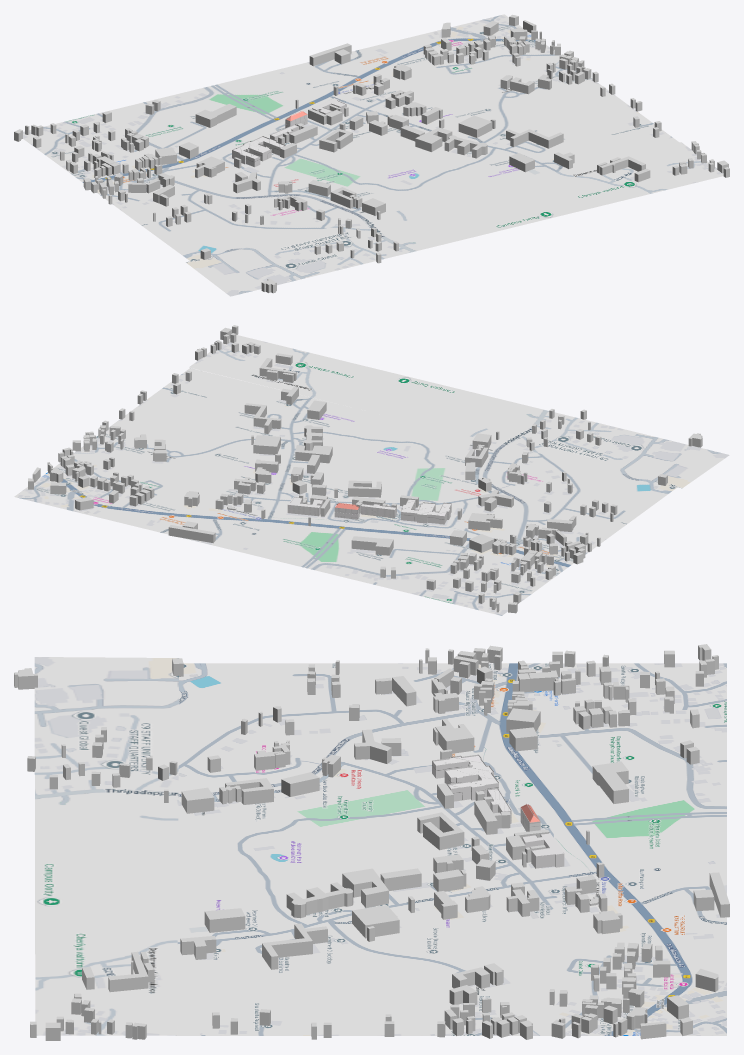
The picture shows the model from 3 angles, top to bottom: view 1: azimuth 30°, elevation 25°; view 2: azimuth 150°, elevation 25°; view 3: azimuth 270°, elevation 25°; orthographic projection. The views are drawn at different scales.
Visible parts, largest first — view 1: EXPORT_GOOGLE_MAP_WM, EXPORT_GOOGLE_MAP_WM.001, UGC - Human Resource Development Centre, Political Science, Economics, Sociology, History, Department of Future Studies, Kerala Highway Research Institute, 798419268, 1202708224, School of Buisiness, Management & Legal Studies, Department of Oriental Languages; view 2: EXPORT_GOOGLE_MAP_WM, EXPORT_GOOGLE_MAP_WM.001, UGC - Human Resource Development Centre, Kerala Highway Research Institute, Political Science, Economics, Sociology, History, Det of Media & Journalism, School of Buisiness, Management & Legal Studies, 798419268, Science Block II, 225367091, 1202708224; view 3: EXPORT_GOOGLE_MAP_WM, EXPORT_GOOGLE_MAP_WM.001, UGC - Human Resource Development Centre, Political Science, Economics, Sociology, History, Department of Future Studies, School of Buisiness, Management & Legal Studies, 798419268, Kerala Highway Research Institute, 1202708224, Science Block II, 225367091, Philosophy, Archeology, Islamic Studies (+10 smaller).
Boxes of the visible parts, x1=… form: EXPORT_GOOGLE_MAP_WM: x1=23, y1=14, x2=679, y2=261; EXPORT_GOOGLE_MAP_WM.001: x1=186, y1=142, x2=723, y2=296; UGC - Human Resource Development Centre: x1=232, y1=136, x2=285, y2=167; Political Science, Economics, Sociology, History: x1=506, y1=129, x2=563, y2=148; Department of Future Studies: x1=444, y1=135, x2=487, y2=158; Kerala Highway Research Institute: x1=195, y1=104, x2=236, y2=127; 798419268: x1=415, y1=127, x2=452, y2=151; 1202708224: x1=458, y1=115, x2=492, y2=137; School of Buisiness, Management & Legal Studies: x1=319, y1=128, x2=352, y2=152; Department of Oriental Languages: x1=599, y1=156, x2=645, y2=175; EXPORT_GOOGLE_MAP_WM: x1=14, y1=368, x2=676, y2=615; EXPORT_GOOGLE_MAP_WM.001: x1=189, y1=335, x2=729, y2=488; UGC - Human Resource Development Centre: x1=401, y1=499, x2=451, y2=524; Kerala Highway Research Institute: x1=351, y1=536, x2=393, y2=555; Political Science, Economics, Sociology, History: x1=244, y1=403, x2=281, y2=433; Det of Media & Journalism: x1=168, y1=525, x2=215, y2=543; School of Buisiness, Management & Legal Studies: x1=348, y1=480, x2=381, y2=497; 798419268: x1=295, y1=445, x2=332, y2=463; Science Block II: x1=287, y1=497, x2=323, y2=516; 225367091: x1=468, y1=513, x2=502, y2=530; 1202708224: x1=253, y1=435, x2=280, y2=454; EXPORT_GOOGLE_MAP_WM: x1=176, y1=663, x2=726, y2=1035; EXPORT_GOOGLE_MAP_WM.001: x1=34, y1=657, x2=178, y2=1035; UGC - Human Resource Development Centre: x1=432, y1=754, x2=498, y2=801; Political Science, Economics, Sociology, History: x1=262, y1=923, x2=327, y2=969; Department of Future Studies: x1=286, y1=882, x2=353, y2=918; School of Buisiness, Management & Legal Studies: x1=417, y1=812, x2=464, y2=850; 798419268: x1=342, y1=868, x2=388, y2=907; Kerala Highway Research Institute: x1=592, y1=761, x2=628, y2=803; 1202708224: x1=352, y1=905, x2=399, y2=938; Science Block II: x1=522, y1=833, x2=564, y2=868; 225367091: x1=435, y1=718, x2=474, y2=753; Philosophy, Archeology, Islamic Studies: x1=204, y1=908, x2=245, y2=932.
Bounding box in the file's own units: 1260 × 31.2 × 993.
4 materials, 4 textured.
